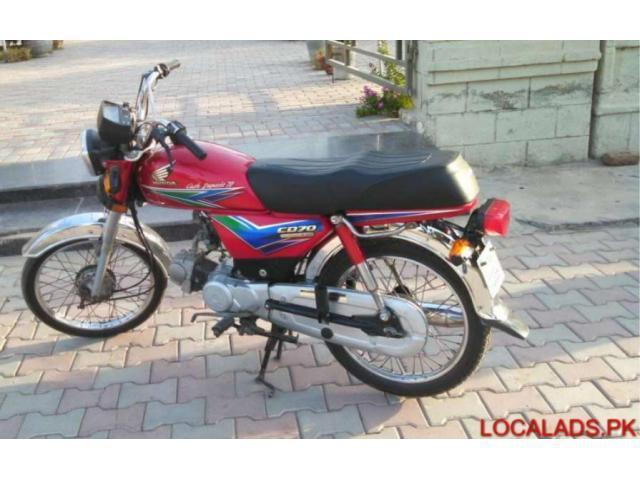motorcycle: (12, 36, 544, 430)
